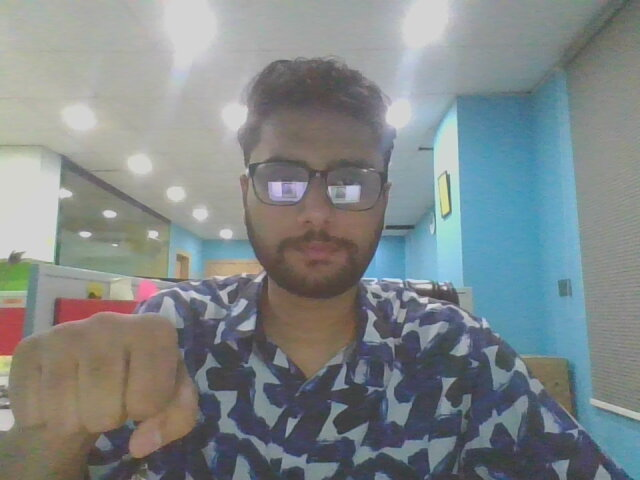yes: (6, 286, 211, 480)
